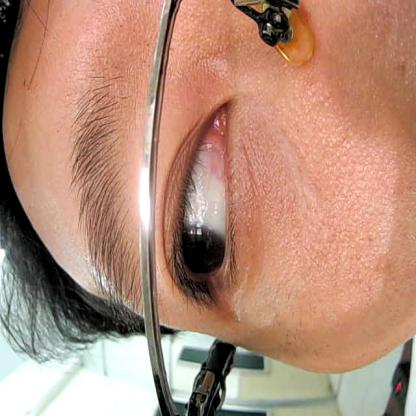Right: (162, 83, 252, 309)
